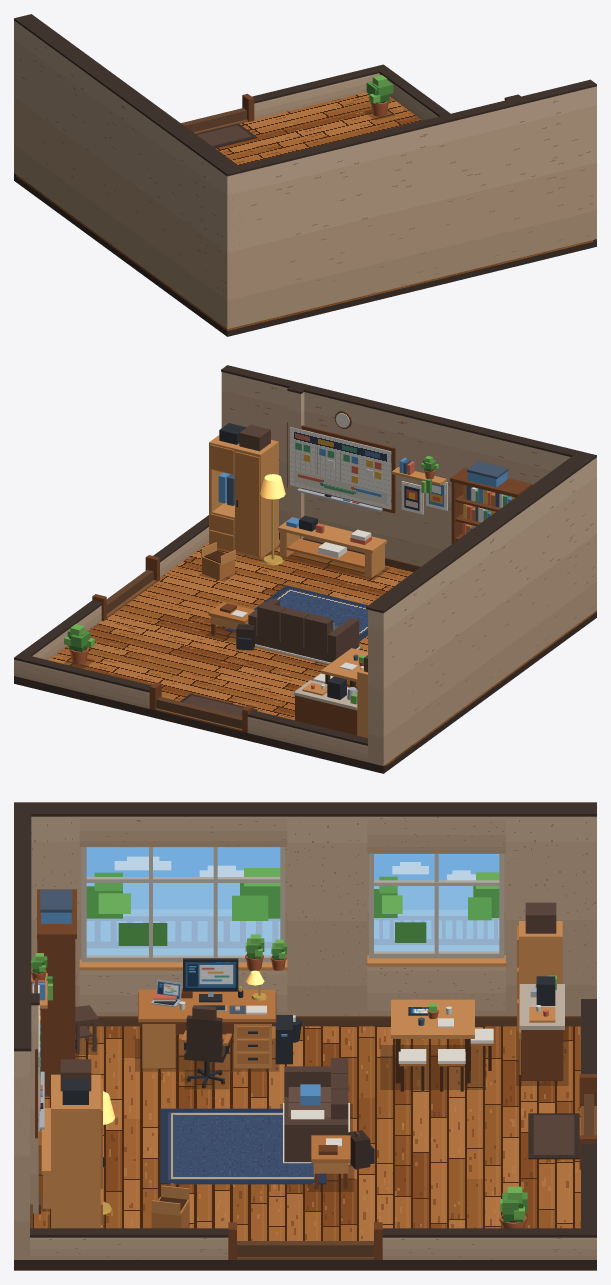
File: pm_room.glb
3 views of the same model, one above another, from view 1: azimuth 30°, elevation 25°; view 2: azimuth 150°, elevation 25°; view 3: azimuth 270°, elevation 25° (orthographic). The views are drawn at different scales.
Parts seen in each view (by area): view 1: Wall_North_Main, Wall_West_Exterior_Shell, Floor_Oak_Plank_Surface, Wall_West_Top_Cap, Floor_Structural_Subbase, Wall_North_Top_Cap, Wall_South_Cutaway_East_Segment, Wall_West_Pier_North, Wall_South_Cutaway_East_Cap, Connector_South_Removable_Threshold, Wall_East_Cutaway_South_Cap, Wall_East_Cutaway_South_Segment (+1 smaller); view 2: Wall_West_Exterior_Shell, Floor_Oak_Plank_Surface, Wall_North_Main, Strategy_Board_Canvas, Wall_West_Top_Cap, Wall_North_Top_Cap, Structure_South_Cutaway_Plinth_Trim, Wardrobe_Door_Left, Wall_South_Cutaway_East_Segment, Woven_Area_Rug_Base, Wall_South_Cutaway_West_Segment, Wardrobe_Main_Corpus (+30 smaller); view 3: Floor_Oak_Plank_Surface, Window_West_Bay_Primary_3Pane_Glass_Pane, Window_West_Bay_Primary_3Pane_Daylight_Vista_Backdrop, Wall_West_Pier_Center_Pilaster, Wall_West_Pier_South, Window_West_Secondary_2Pane_Glass_Pane, Window_West_Secondary_2Pane_Daylight_Vista_Backdrop, Woven_Area_Rug_Base, Wall_West_Top_Cap, Wall_West_Window1_Upper_Lintel, Structure_East_Cutaway_Plinth_Trim, Wall_West_Window2_Lower_Spandrel (+52 smaller).
Boxes of the visible parts, bbox=[...] form: Wall_North_Main: bbox=[243, 86, 596, 325]; Wall_West_Exterior_Shell: bbox=[14, 20, 231, 328]; Floor_Oak_Plank_Surface: bbox=[16, 92, 593, 330]; Wall_West_Top_Cap: bbox=[14, 14, 237, 171]; Floor_Structural_Subbase: bbox=[16, 176, 593, 336]; Wall_North_Top_Cap: bbox=[221, 79, 596, 176]; Wall_South_Cutaway_East_Segment: bbox=[254, 73, 379, 119]; Wall_West_Pier_North: bbox=[232, 172, 242, 327]; Wall_South_Cutaway_East_Cap: bbox=[252, 64, 388, 103]; Connector_South_Removable_Threshold: bbox=[181, 108, 246, 132]; Wall_East_Cutaway_South_Cap: bbox=[379, 68, 450, 116]; Wall_East_Cutaway_South_Segment: bbox=[379, 74, 438, 120]; Wall_West_Exterior_Shell: bbox=[379, 457, 596, 765]; Floor_Oak_Plank_Surface: bbox=[48, 539, 596, 765]; Wall_North_Main: bbox=[221, 372, 570, 565]; Strategy_Board_Canvas: bbox=[290, 427, 391, 509]; Wall_West_Top_Cap: bbox=[366, 455, 590, 613]; Wall_North_Top_Cap: bbox=[221, 365, 596, 461]; Structure_South_Cutaway_Plinth_Trim: bbox=[14, 676, 385, 773]; Wardrobe_Door_Left: bbox=[235, 451, 259, 556]; Wall_South_Cutaway_East_Segment: bbox=[14, 659, 149, 708]; Woven_Area_Rug_Base: bbox=[225, 585, 367, 641]; Wall_South_Cutaway_West_Segment: bbox=[247, 716, 367, 762]; Wardrobe_Main_Corpus: bbox=[235, 440, 278, 558]; Floor_Oak_Plank_Surface: bbox=[33, 1026, 580, 1240]; Window_West_Bay_Primary_3Pane_Glass_Pane: bbox=[87, 848, 279, 957]; Window_West_Bay_Primary_3Pane_Daylight_Vista_Backdrop: bbox=[86, 847, 280, 955]; Wall_West_Pier_Center_Pilaster: bbox=[287, 816, 367, 1015]; Wall_West_Pier_South: bbox=[506, 816, 596, 1015]; Window_West_Secondary_2Pane_Glass_Pane: bbox=[374, 855, 498, 953]; Window_West_Secondary_2Pane_Daylight_Vista_Backdrop: bbox=[374, 854, 499, 951]; Woven_Area_Rug_Base: bbox=[160, 1108, 326, 1184]; Wall_West_Top_Cap: bbox=[31, 802, 596, 816]; Wall_West_Window1_Upper_Lintel: bbox=[79, 816, 287, 846]; Structure_East_Cutaway_Plinth_Trim: bbox=[14, 1260, 591, 1270]; Wall_West_Window2_Lower_Spandrel: bbox=[367, 966, 505, 1015].
Bounding box in the file's own units: 8.05 × 3.36 × 8.
37 materials, 8 textured.
